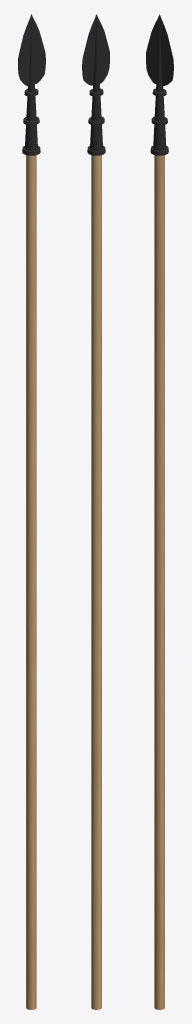
The model's file is spearHalberd.fbx.
3 renders of one model, left to right at view 1: azimuth 30°, elevation 25°; view 2: azimuth 210°, elevation 25°; view 3: azimuth 330°, elevation 25°, orthographic.
Parts seen in each view (by area): view 1: pCylinder7, pCylinder8; view 2: pCylinder7, pCylinder8; view 3: pCylinder7, pCylinder8.
Boxes of the visible parts, x1=… form: pCylinder7: x1=26, y1=155, x2=36, y2=1009; pCylinder8: x1=18, y1=14, x2=45, y2=155; pCylinder7: x1=91, y1=155, x2=101, y2=1009; pCylinder8: x1=82, y1=14, x2=109, y2=155; pCylinder7: x1=154, y1=155, x2=164, y2=1009; pCylinder8: x1=146, y1=14, x2=173, y2=155.
Size of the model in its own units: 0.1347 by 4.58 by 0.0765.
Materials: 1 (1 with a texture image).
